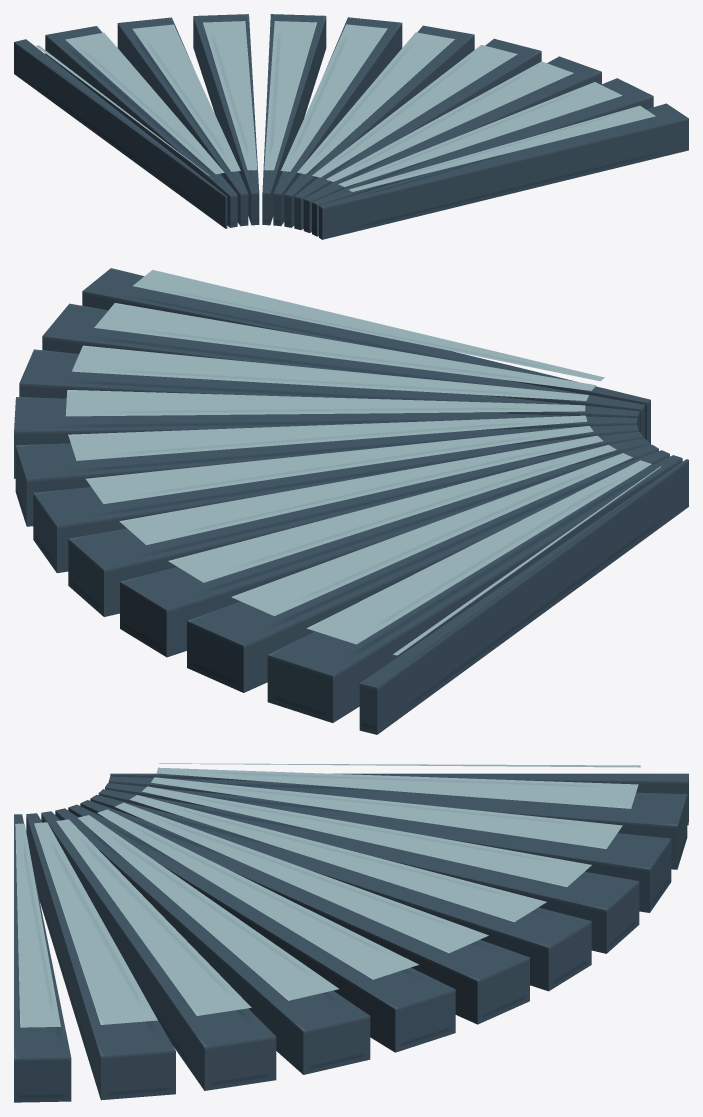
Rendered from sc_tread_curve_left_11.obj.
3 views of the same model, one above another, from view 1: azimuth 30°, elevation 25°; view 2: azimuth 150°, elevation 25°; view 3: azimuth 270°, elevation 25° (orthographic). The views are drawn at different scales.
Bounding box in the file's own units: 17.5 × 1.56 × 17.5.
1 material, 1 textured.
